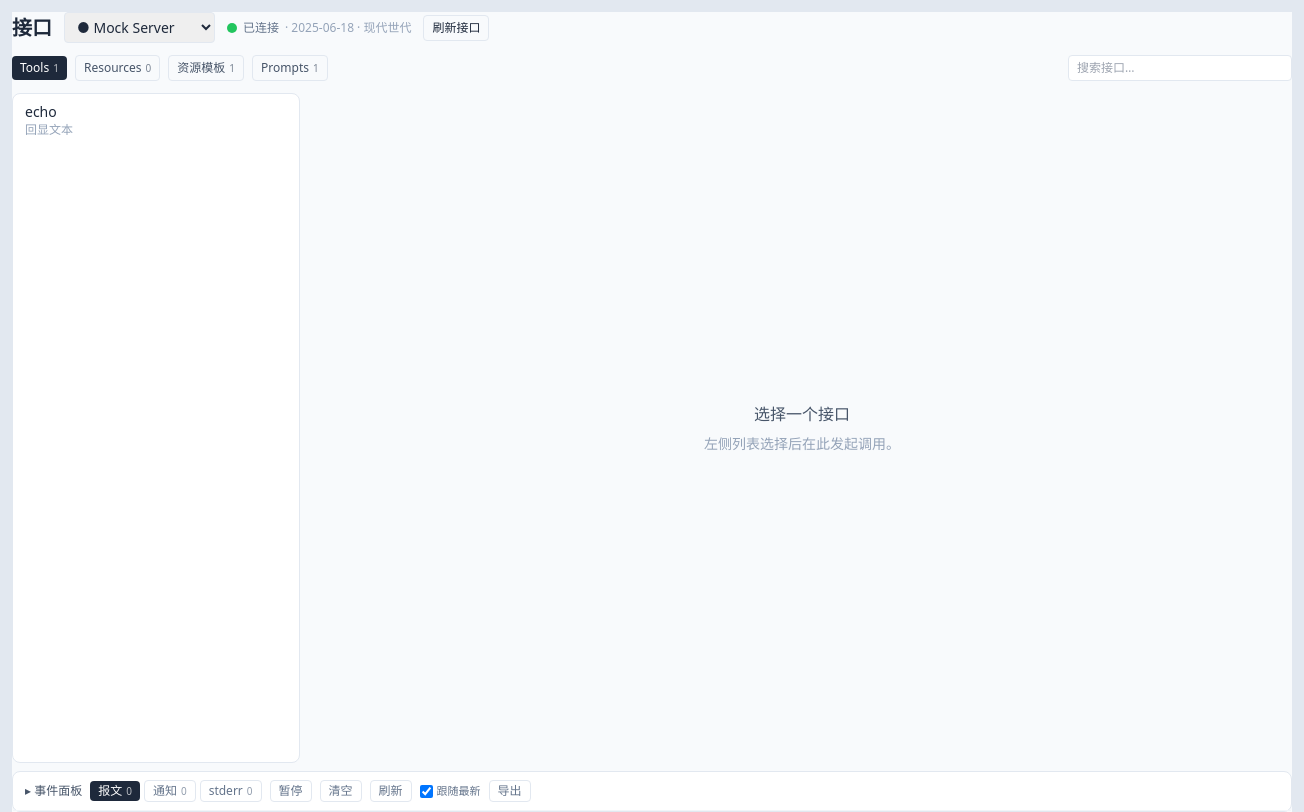
Test: Explorer 参数校验 › Prompt 必填缺失时拦截获取
Click the button "Prompts1".
click(290, 68)  # box [252, 55, 328, 81]
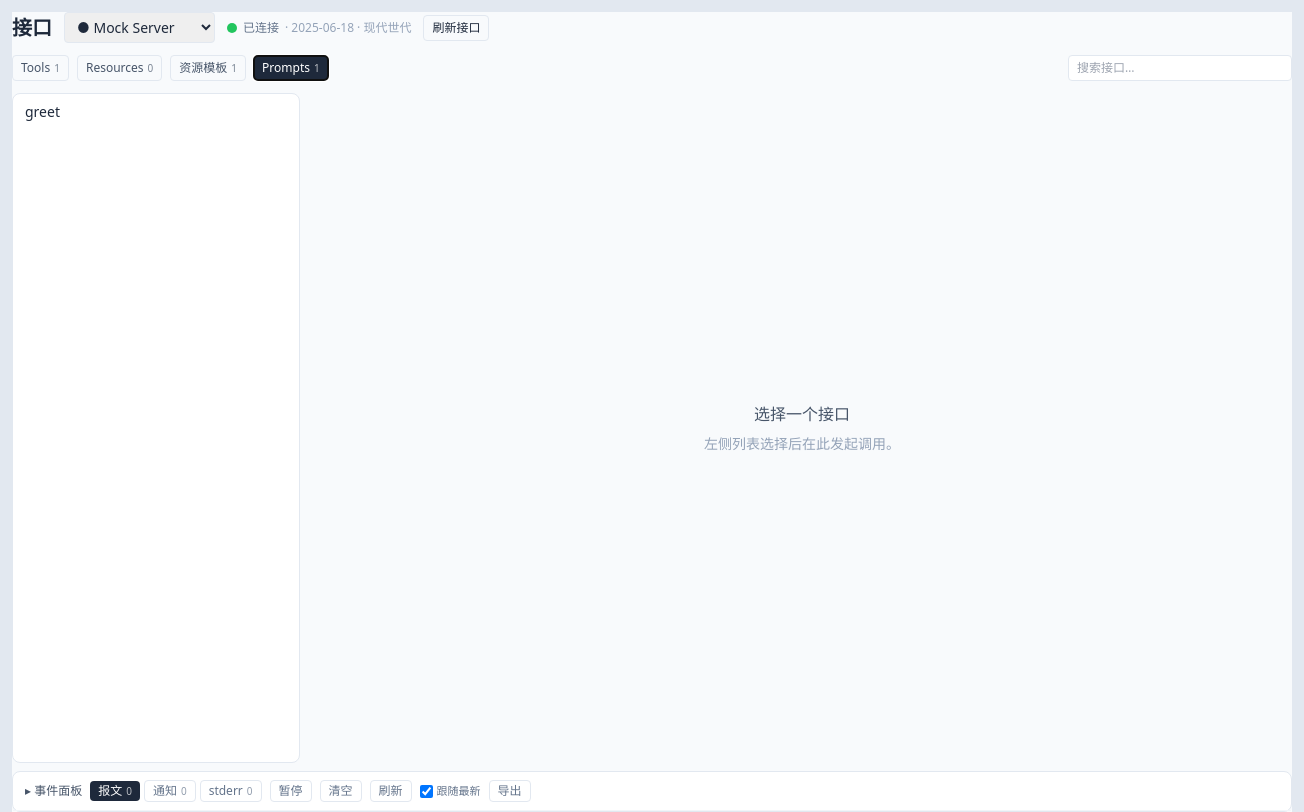
Click the button "greet".
click(42, 112)  # box [13, 94, 299, 130]
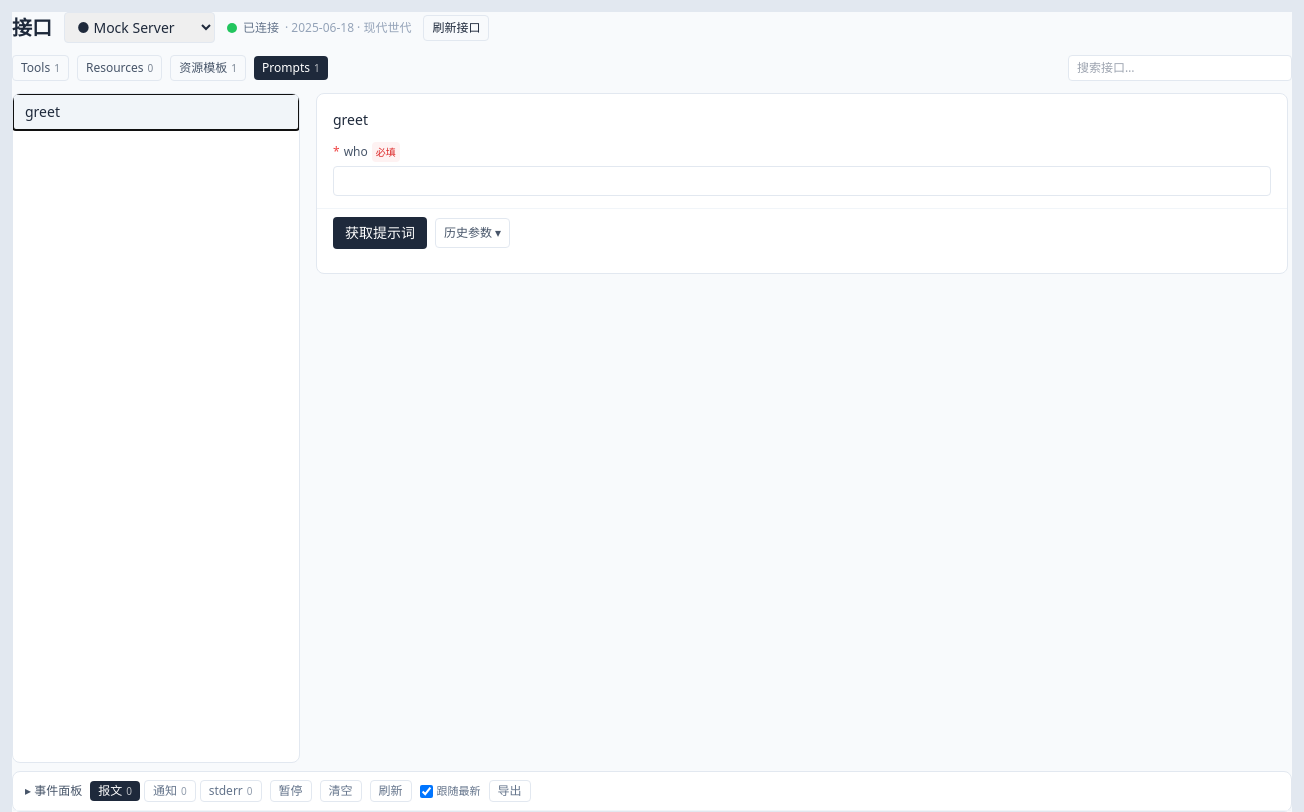
Click the button "获取提示词".
click(380, 233)  # box [333, 217, 427, 249]
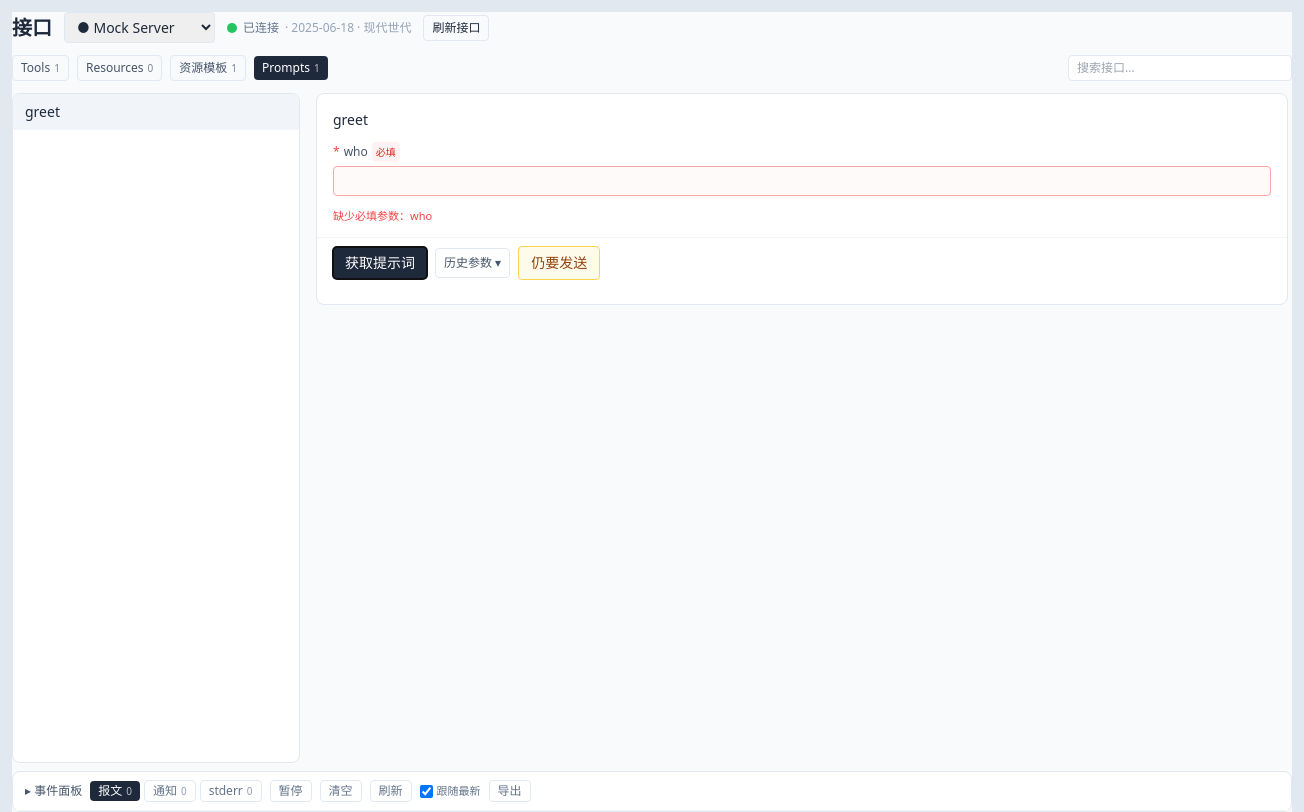
Expected: the text "缺少必填参数：who" is shown, [333, 208, 432, 223]
Expected: the button "仍要发送" is shown, [518, 246, 600, 280]
